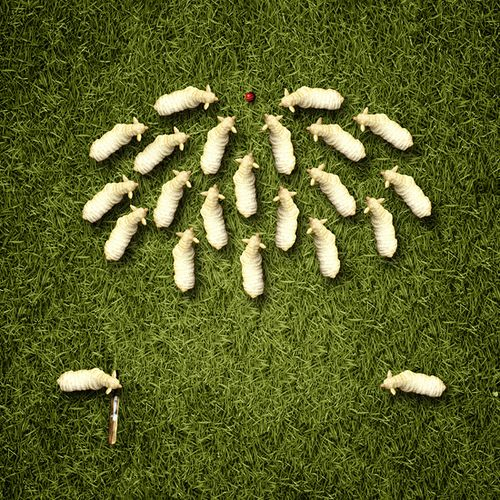sheep: (379, 162, 433, 221), (351, 107, 416, 152), (304, 117, 367, 163), (132, 127, 191, 176), (80, 171, 137, 220), (166, 222, 203, 294), (150, 168, 195, 227), (359, 194, 400, 258), (101, 204, 145, 263), (198, 180, 233, 254), (258, 111, 297, 176), (307, 213, 343, 283), (87, 114, 145, 157), (53, 363, 126, 397), (199, 113, 235, 179), (277, 83, 346, 117), (228, 151, 262, 220), (380, 366, 445, 400), (151, 83, 220, 115), (270, 185, 302, 252), (238, 232, 268, 301)
